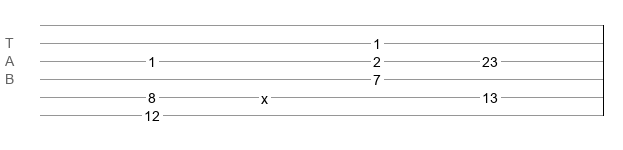1: (148, 54, 156, 64), (373, 36, 381, 46)
12: (144, 108, 160, 118)
13: (482, 90, 498, 100)
2: (373, 54, 381, 64)
23: (482, 54, 498, 64)
7: (373, 72, 381, 82)
8: (148, 90, 156, 100)
x: (261, 91, 268, 99)
